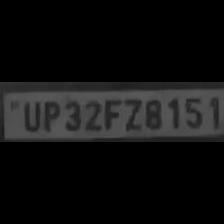1: (163, 94, 181, 130), (206, 93, 223, 129)
2: (82, 98, 104, 132)
3: (60, 98, 82, 132)
5: (180, 94, 204, 128)
8: (140, 96, 164, 130)
F: (101, 97, 119, 131)
P: (42, 100, 60, 132)
U: (19, 100, 41, 132)
Z: (120, 96, 142, 132)
